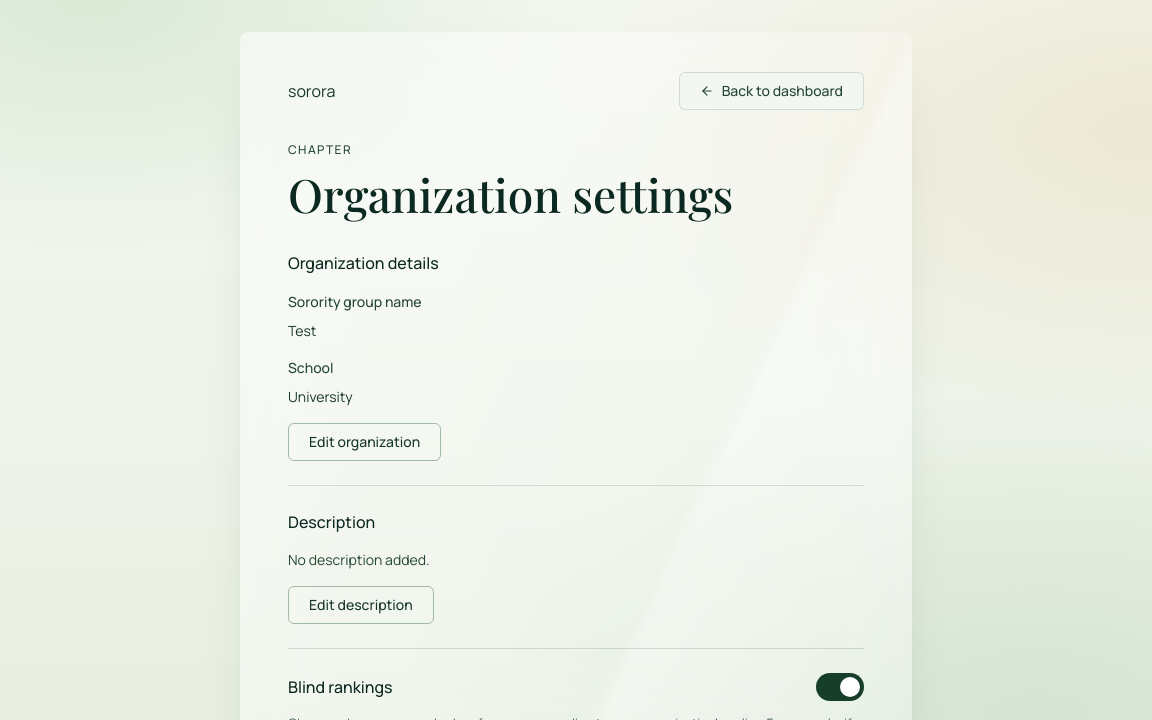
Test case: Cancel discards privacy changes without saving
What coordinates should you click on to do the following:
click the switch named "Blind rankings"
I would click on:
 (840, 687)
Its box is [816,673,864,701].
(page scrolled)
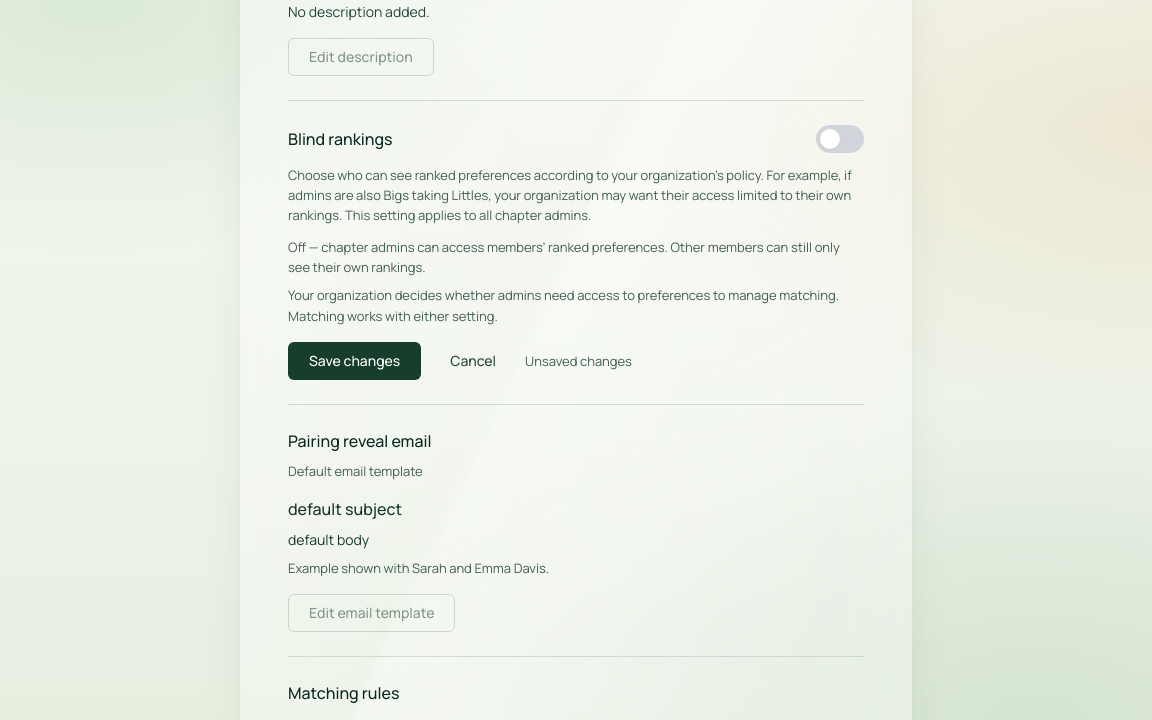
What coordinates should you click on to do the following:
click the button "Cancel"
I would click on:
 (473, 361)
Its box is [429,342,517,380].
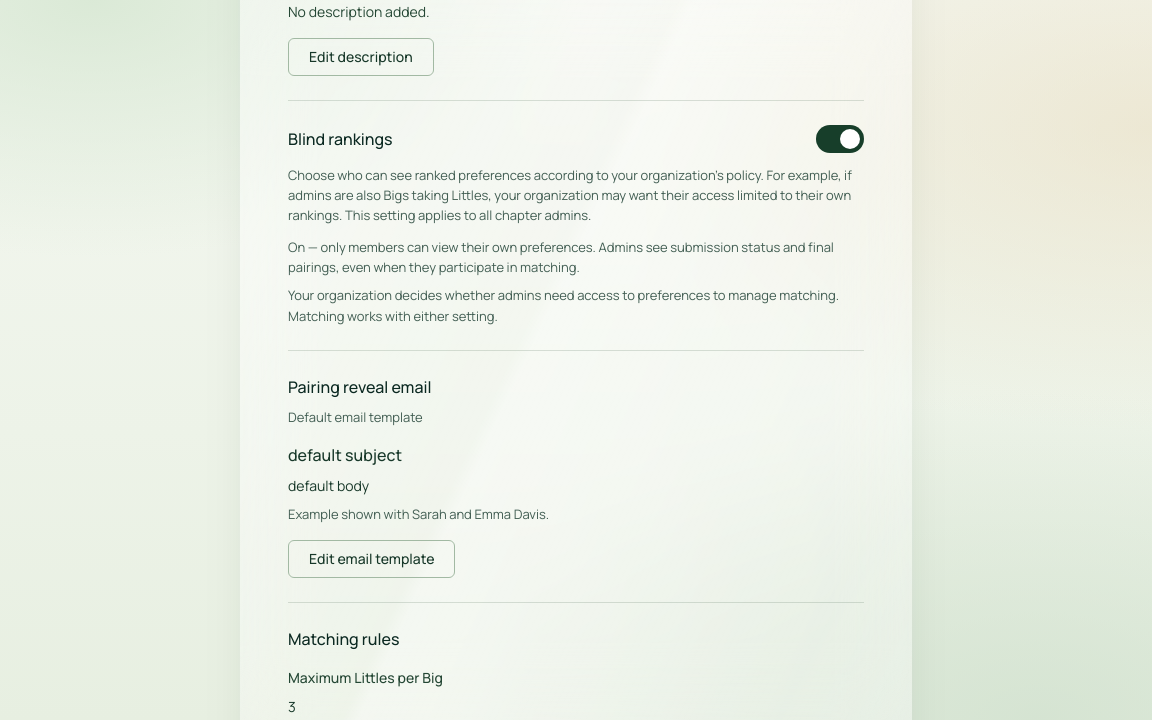
Now the button "Save changes" is gone
